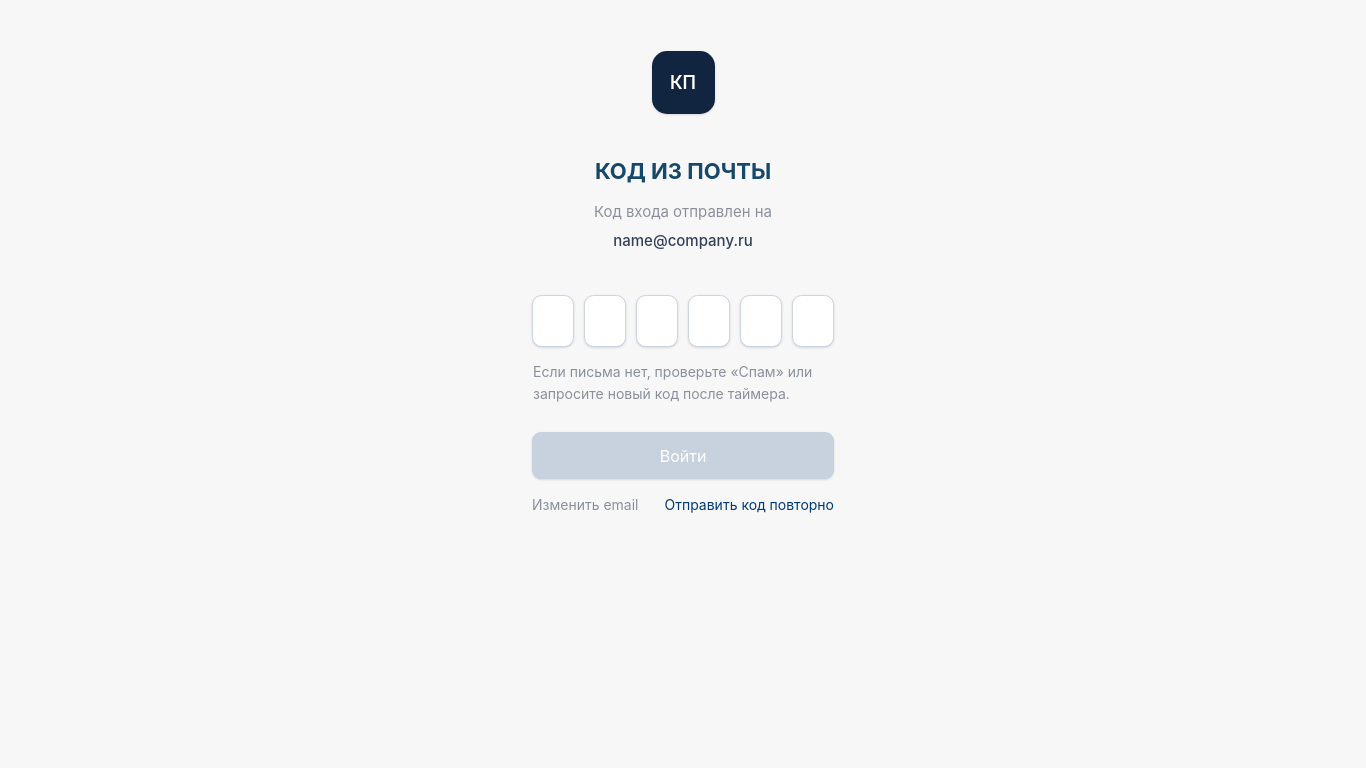
Passwordless login pages › routes verified first-access code login to legal consent
Click the field named "Код из письма" at (553, 321), box [532, 295, 574, 347]
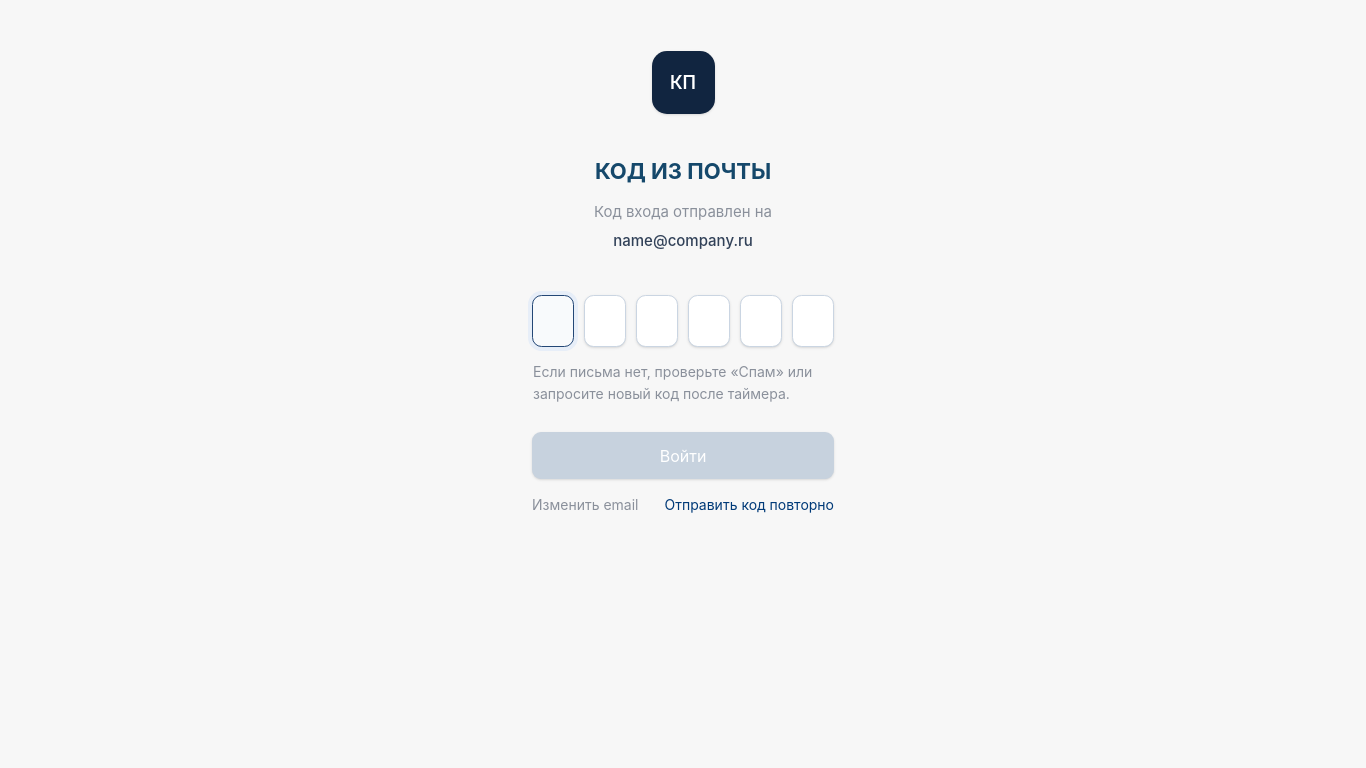
Type keys "123456"
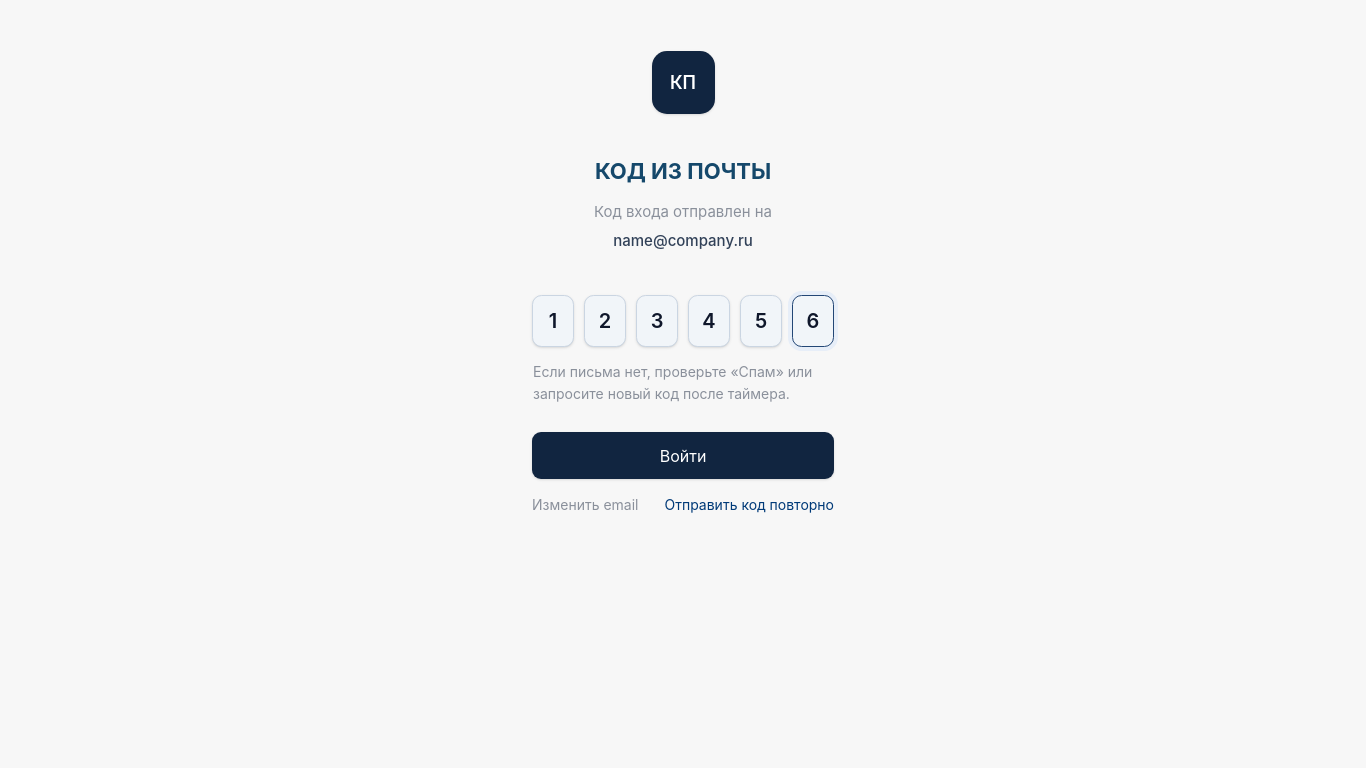
Click the button "Войти" at (683, 456), box [532, 432, 834, 479]
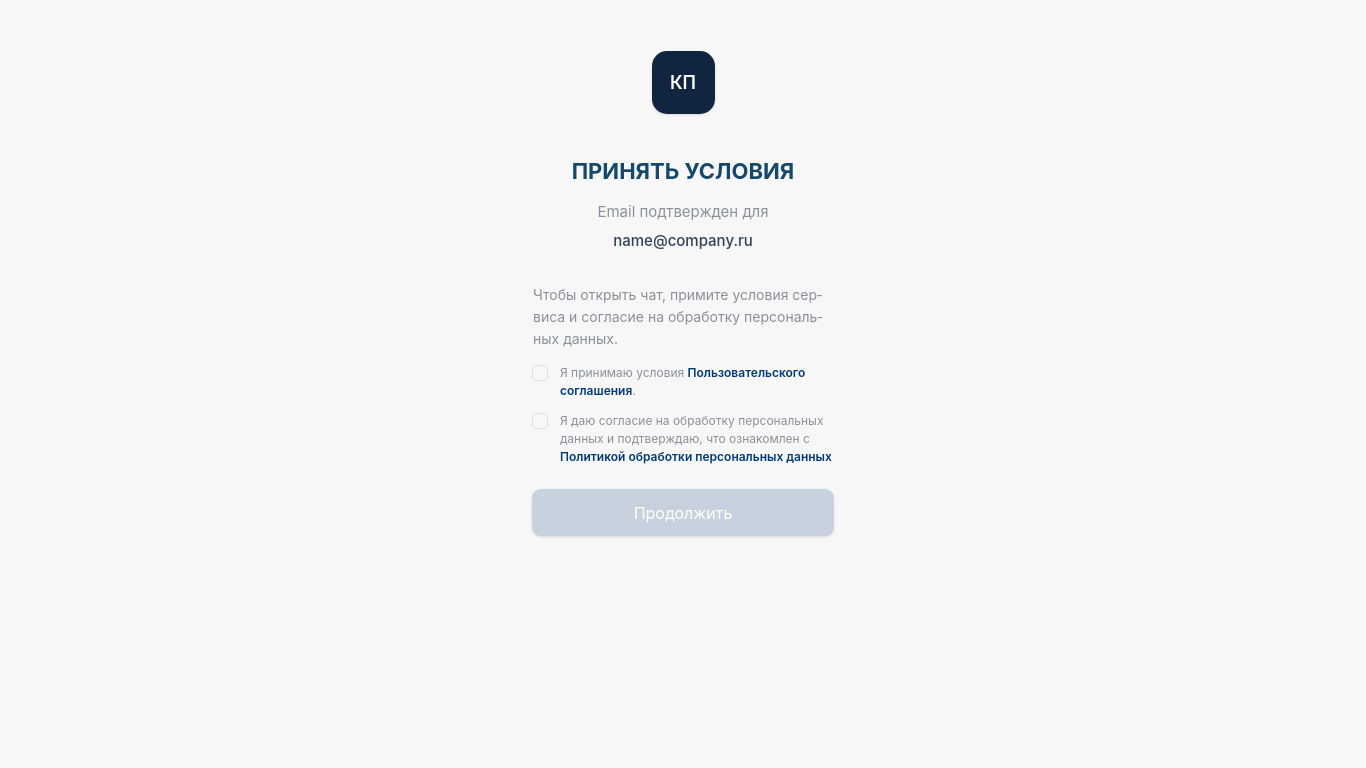
Check: the text "name@company.ru" is shown, box [613, 231, 753, 250]
Check: the heading "Принять условия" is shown, box [572, 158, 794, 184]
